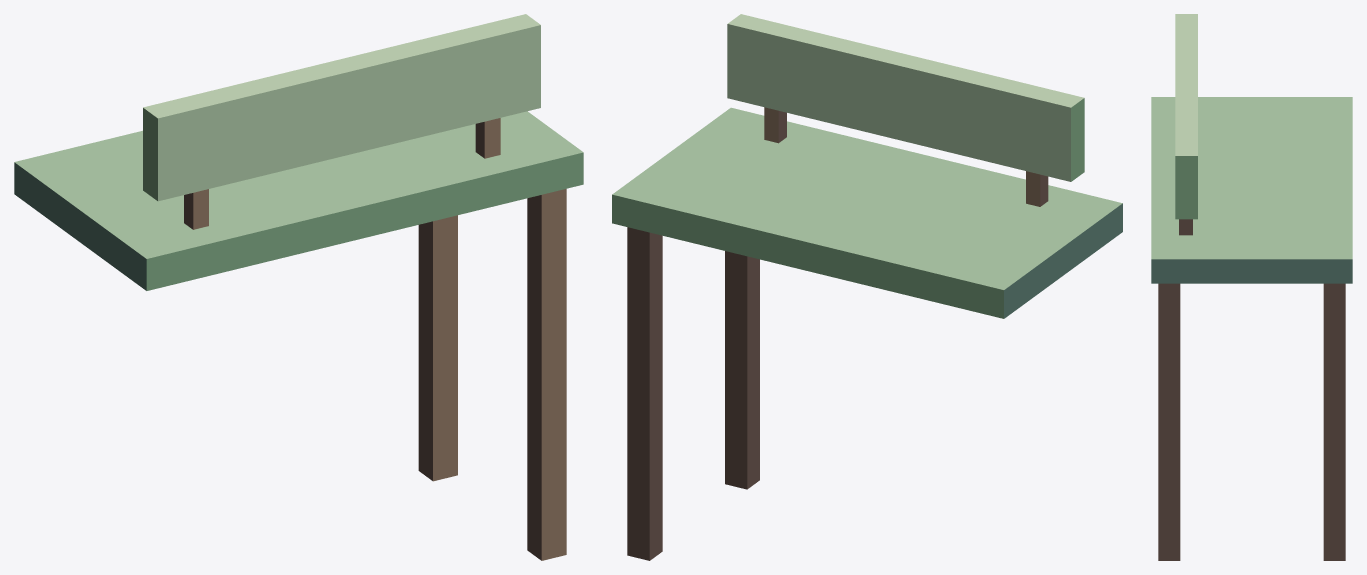
The model's file is Drive_Prop.fbx.
3 renders of one model, left to right at view 1: azimuth 30°, elevation 25°; view 2: azimuth 150°, elevation 25°; view 3: azimuth 270°, elevation 25°, orthographic. The views are drawn at different scales.
Parts seen in each view (by area): view 1: Drive_Prop; view 2: Drive_Prop; view 3: Drive_Prop.
Part boxes in pixels (box(x1,y1,x2,y2)): Drive_Prop: box(14, 14, 583, 560); Drive_Prop: box(612, 14, 1122, 560); Drive_Prop: box(1151, 14, 1352, 560).
Bounding box in the file's own units: 131 × 151 × 68.99.
